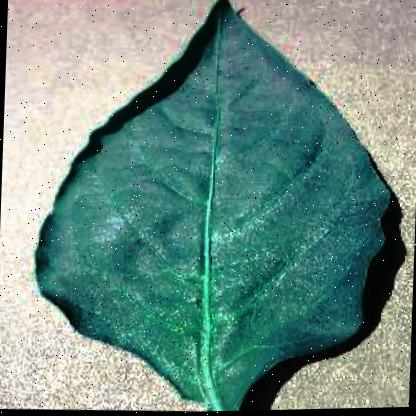Healthy: (27, 0, 406, 415)
